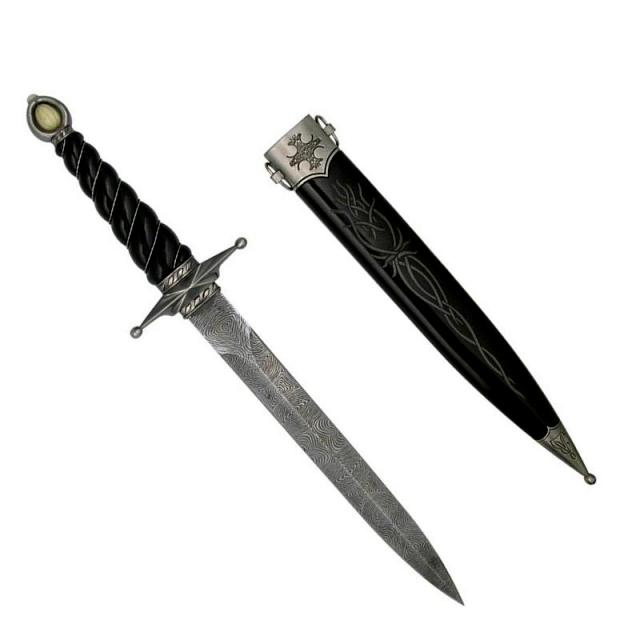short sword: (14, 80, 612, 612)
